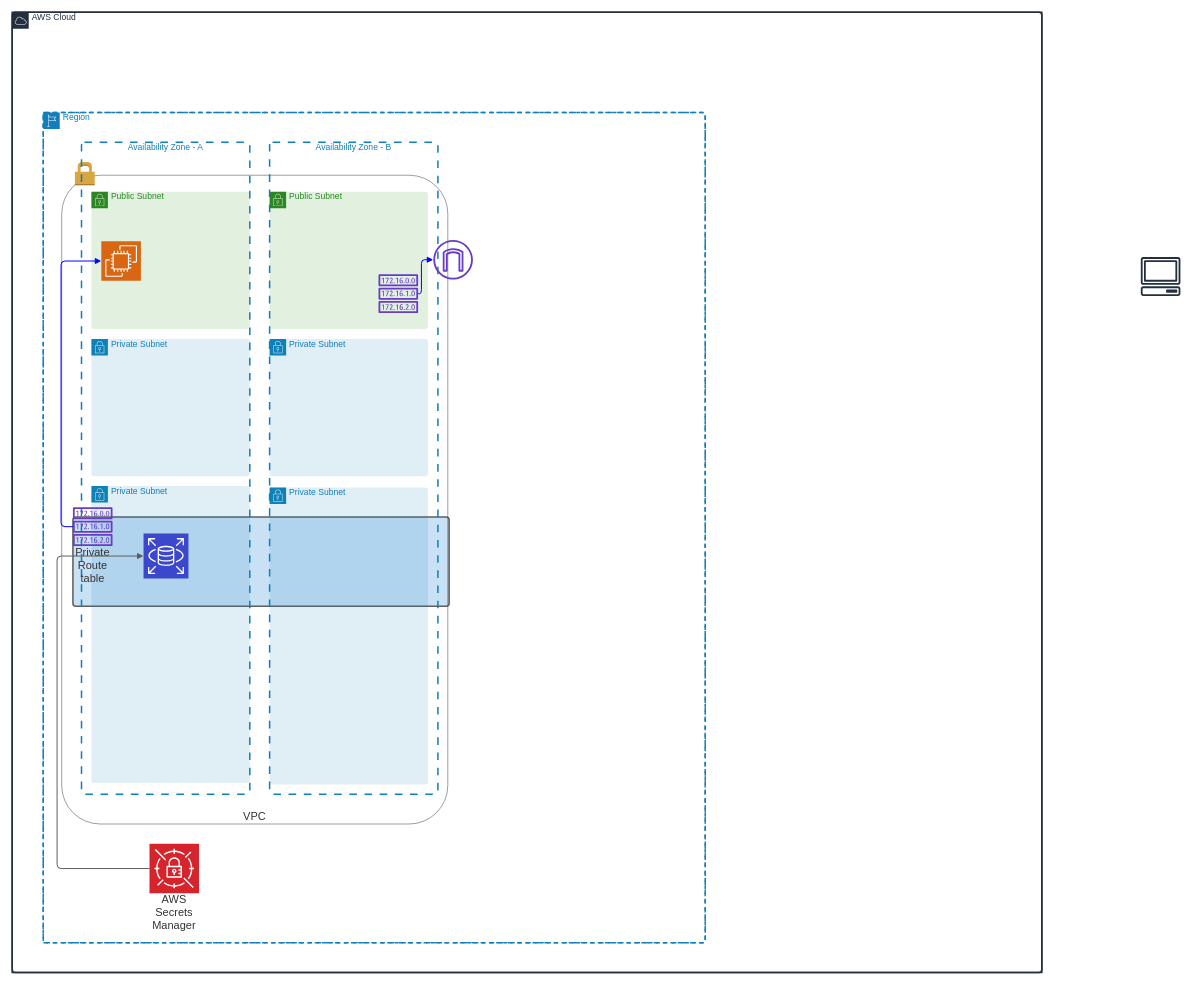
Image size: 1192x985. Some labels were removed from this diagram. Here are the shapes that lost their labels. From the top down, the centre of each, then its label:
point 120,260: NAT Instances
point 453,259: Internet gateway
point 1160,276: Client
point 398,293: Public Route table
point 165,556: Amazon RDS
